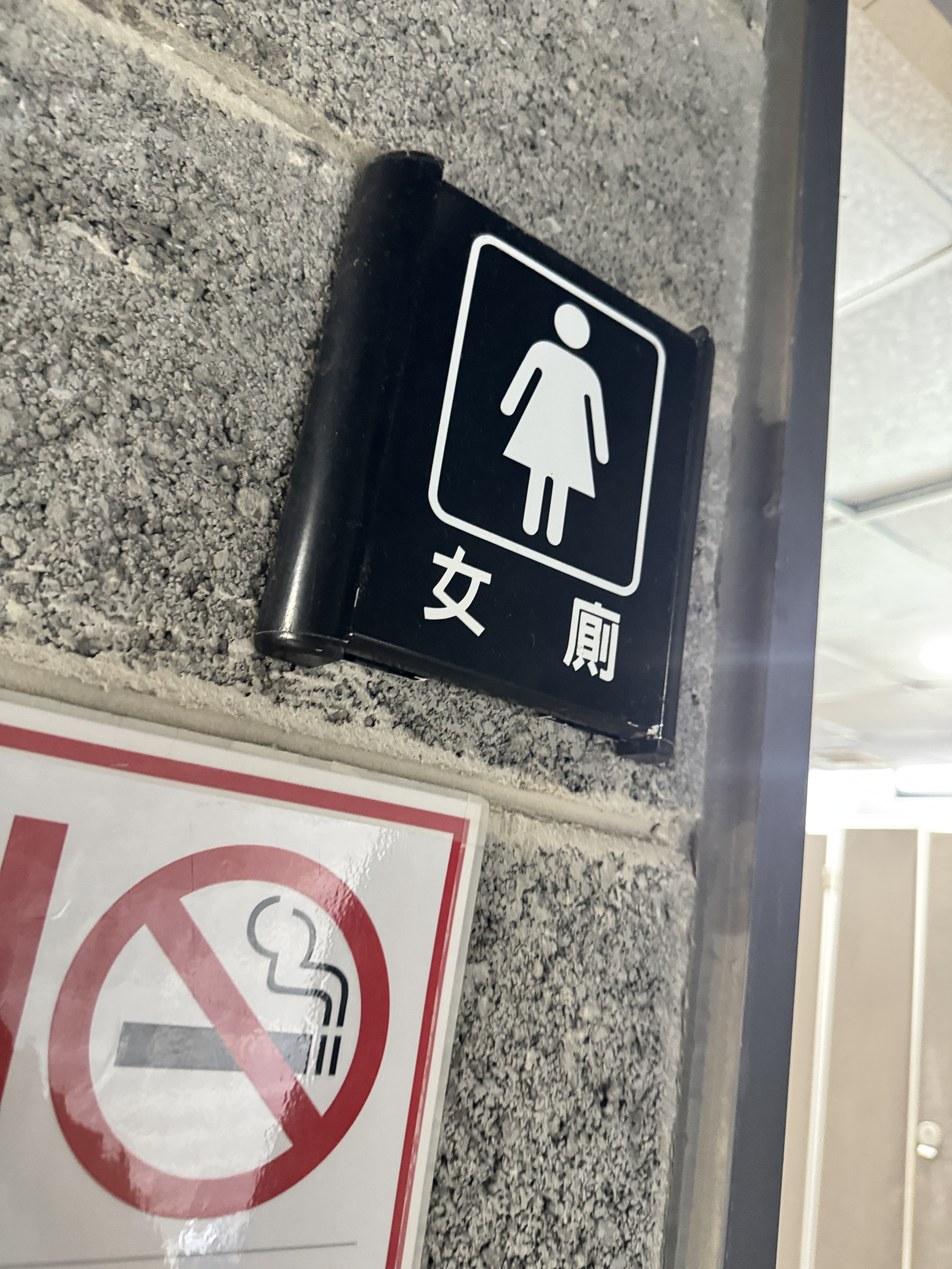toilet_sign: (269, 132, 725, 763), (253, 144, 701, 768)
